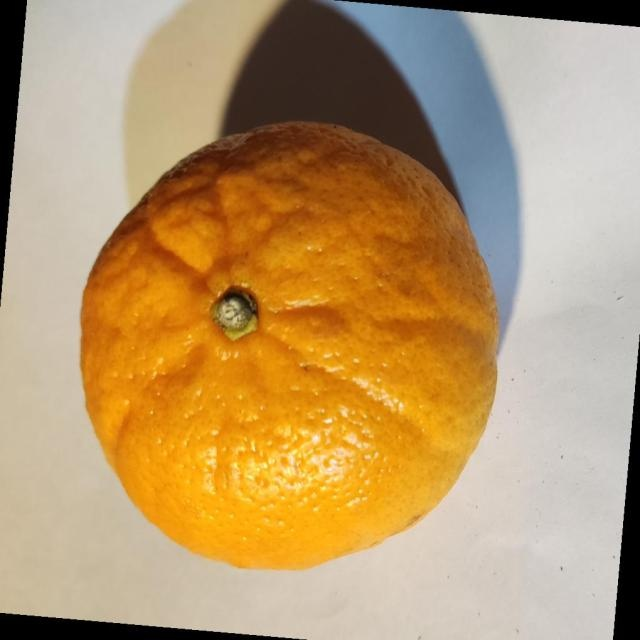agrume: (79, 119, 500, 571)
